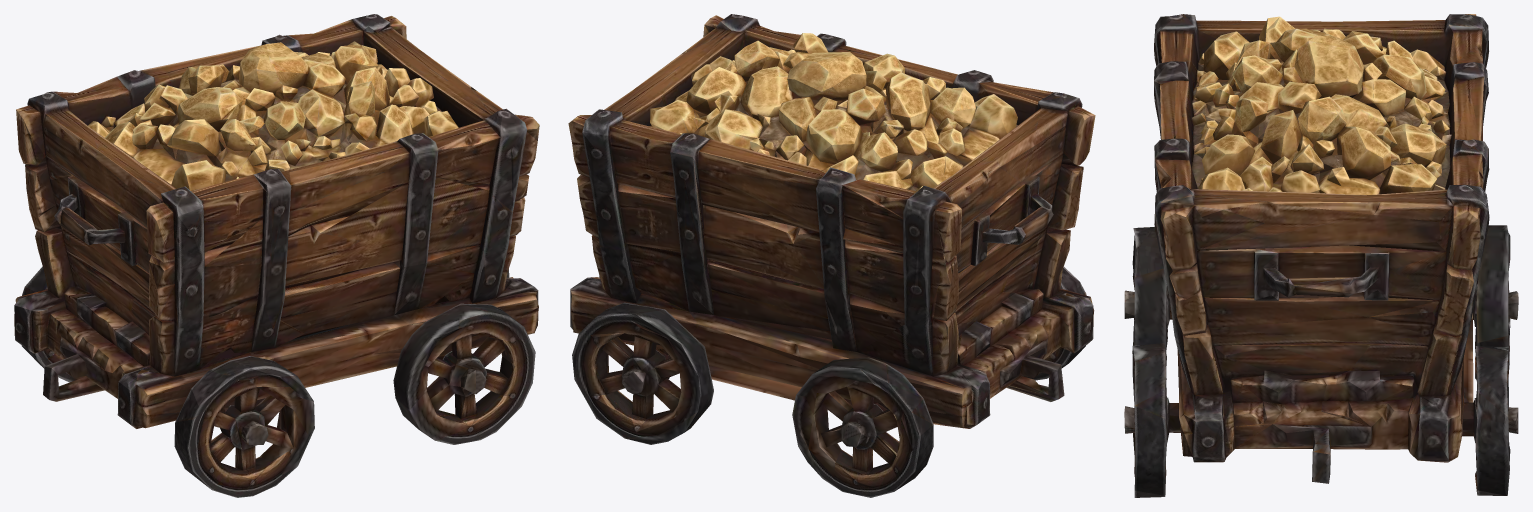
The model's file is wagonnet.glb.
3 views of the same model, side by side, from view 1: azimuth 30°, elevation 25°; view 2: azimuth 150°, elevation 25°; view 3: azimuth 270°, elevation 25° (orthographic). The views are drawn at different scales.
Size of the model in its own units: 1.89 by 1.4 by 1.29.
1 material, 1 textured.
